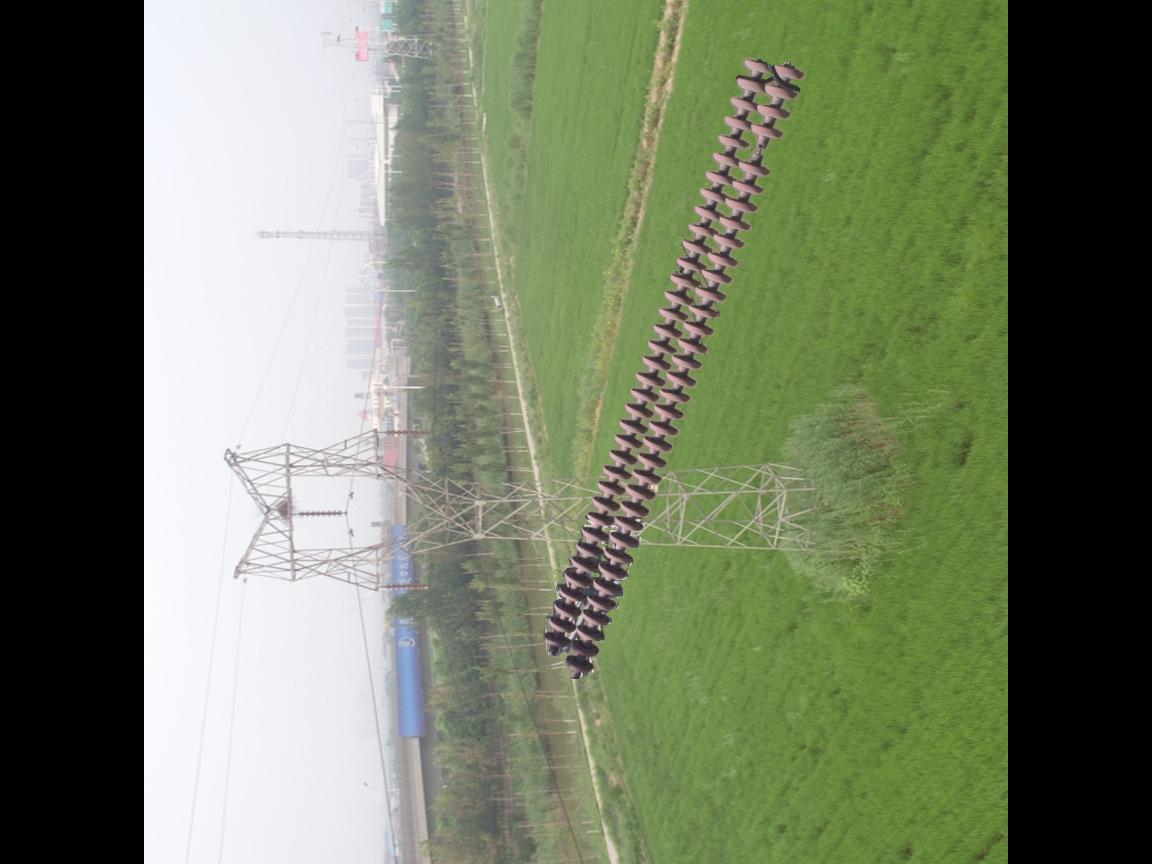insulator: (537, 51, 806, 681), (293, 503, 347, 521)
insulator_stringdrop: (736, 121, 784, 181)
